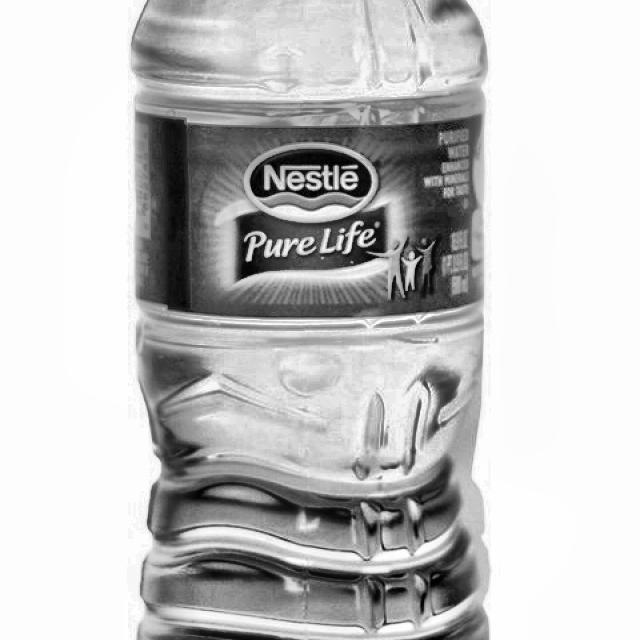bottle: (128, 0, 500, 640)
